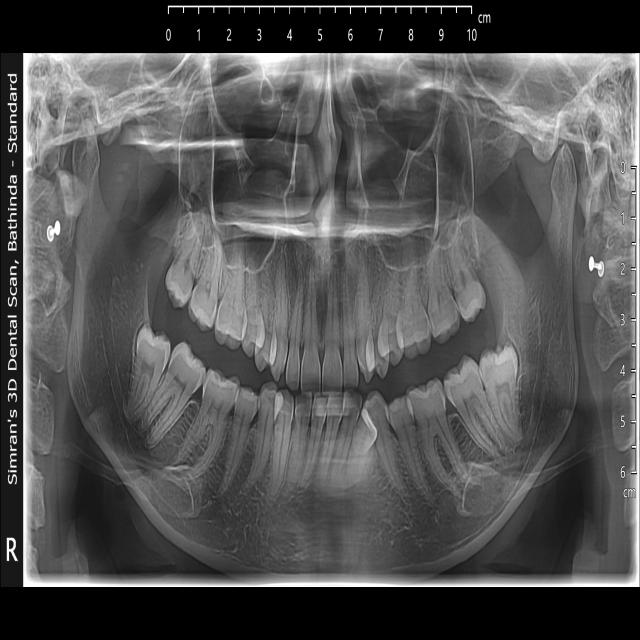Caries: (456, 271, 487, 317)
impacted tooth: (346, 402, 374, 479)
